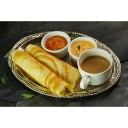dosa: (11, 50, 79, 92)
